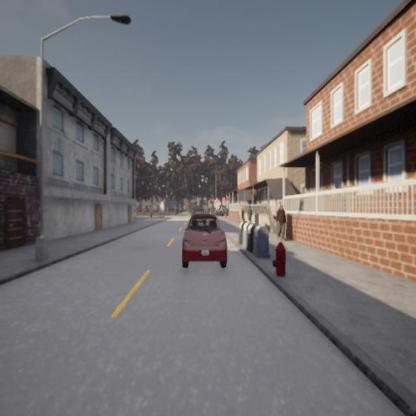person: (276, 206, 287, 240)
vehicle: (182, 214, 228, 269)
